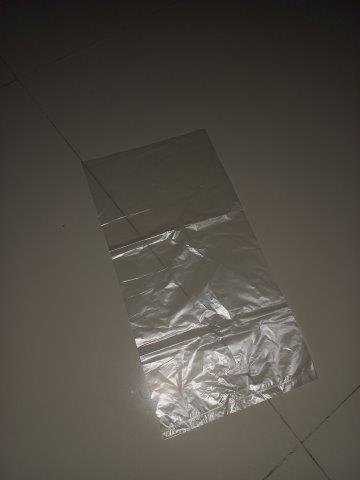plastik: (80, 127, 320, 440)
